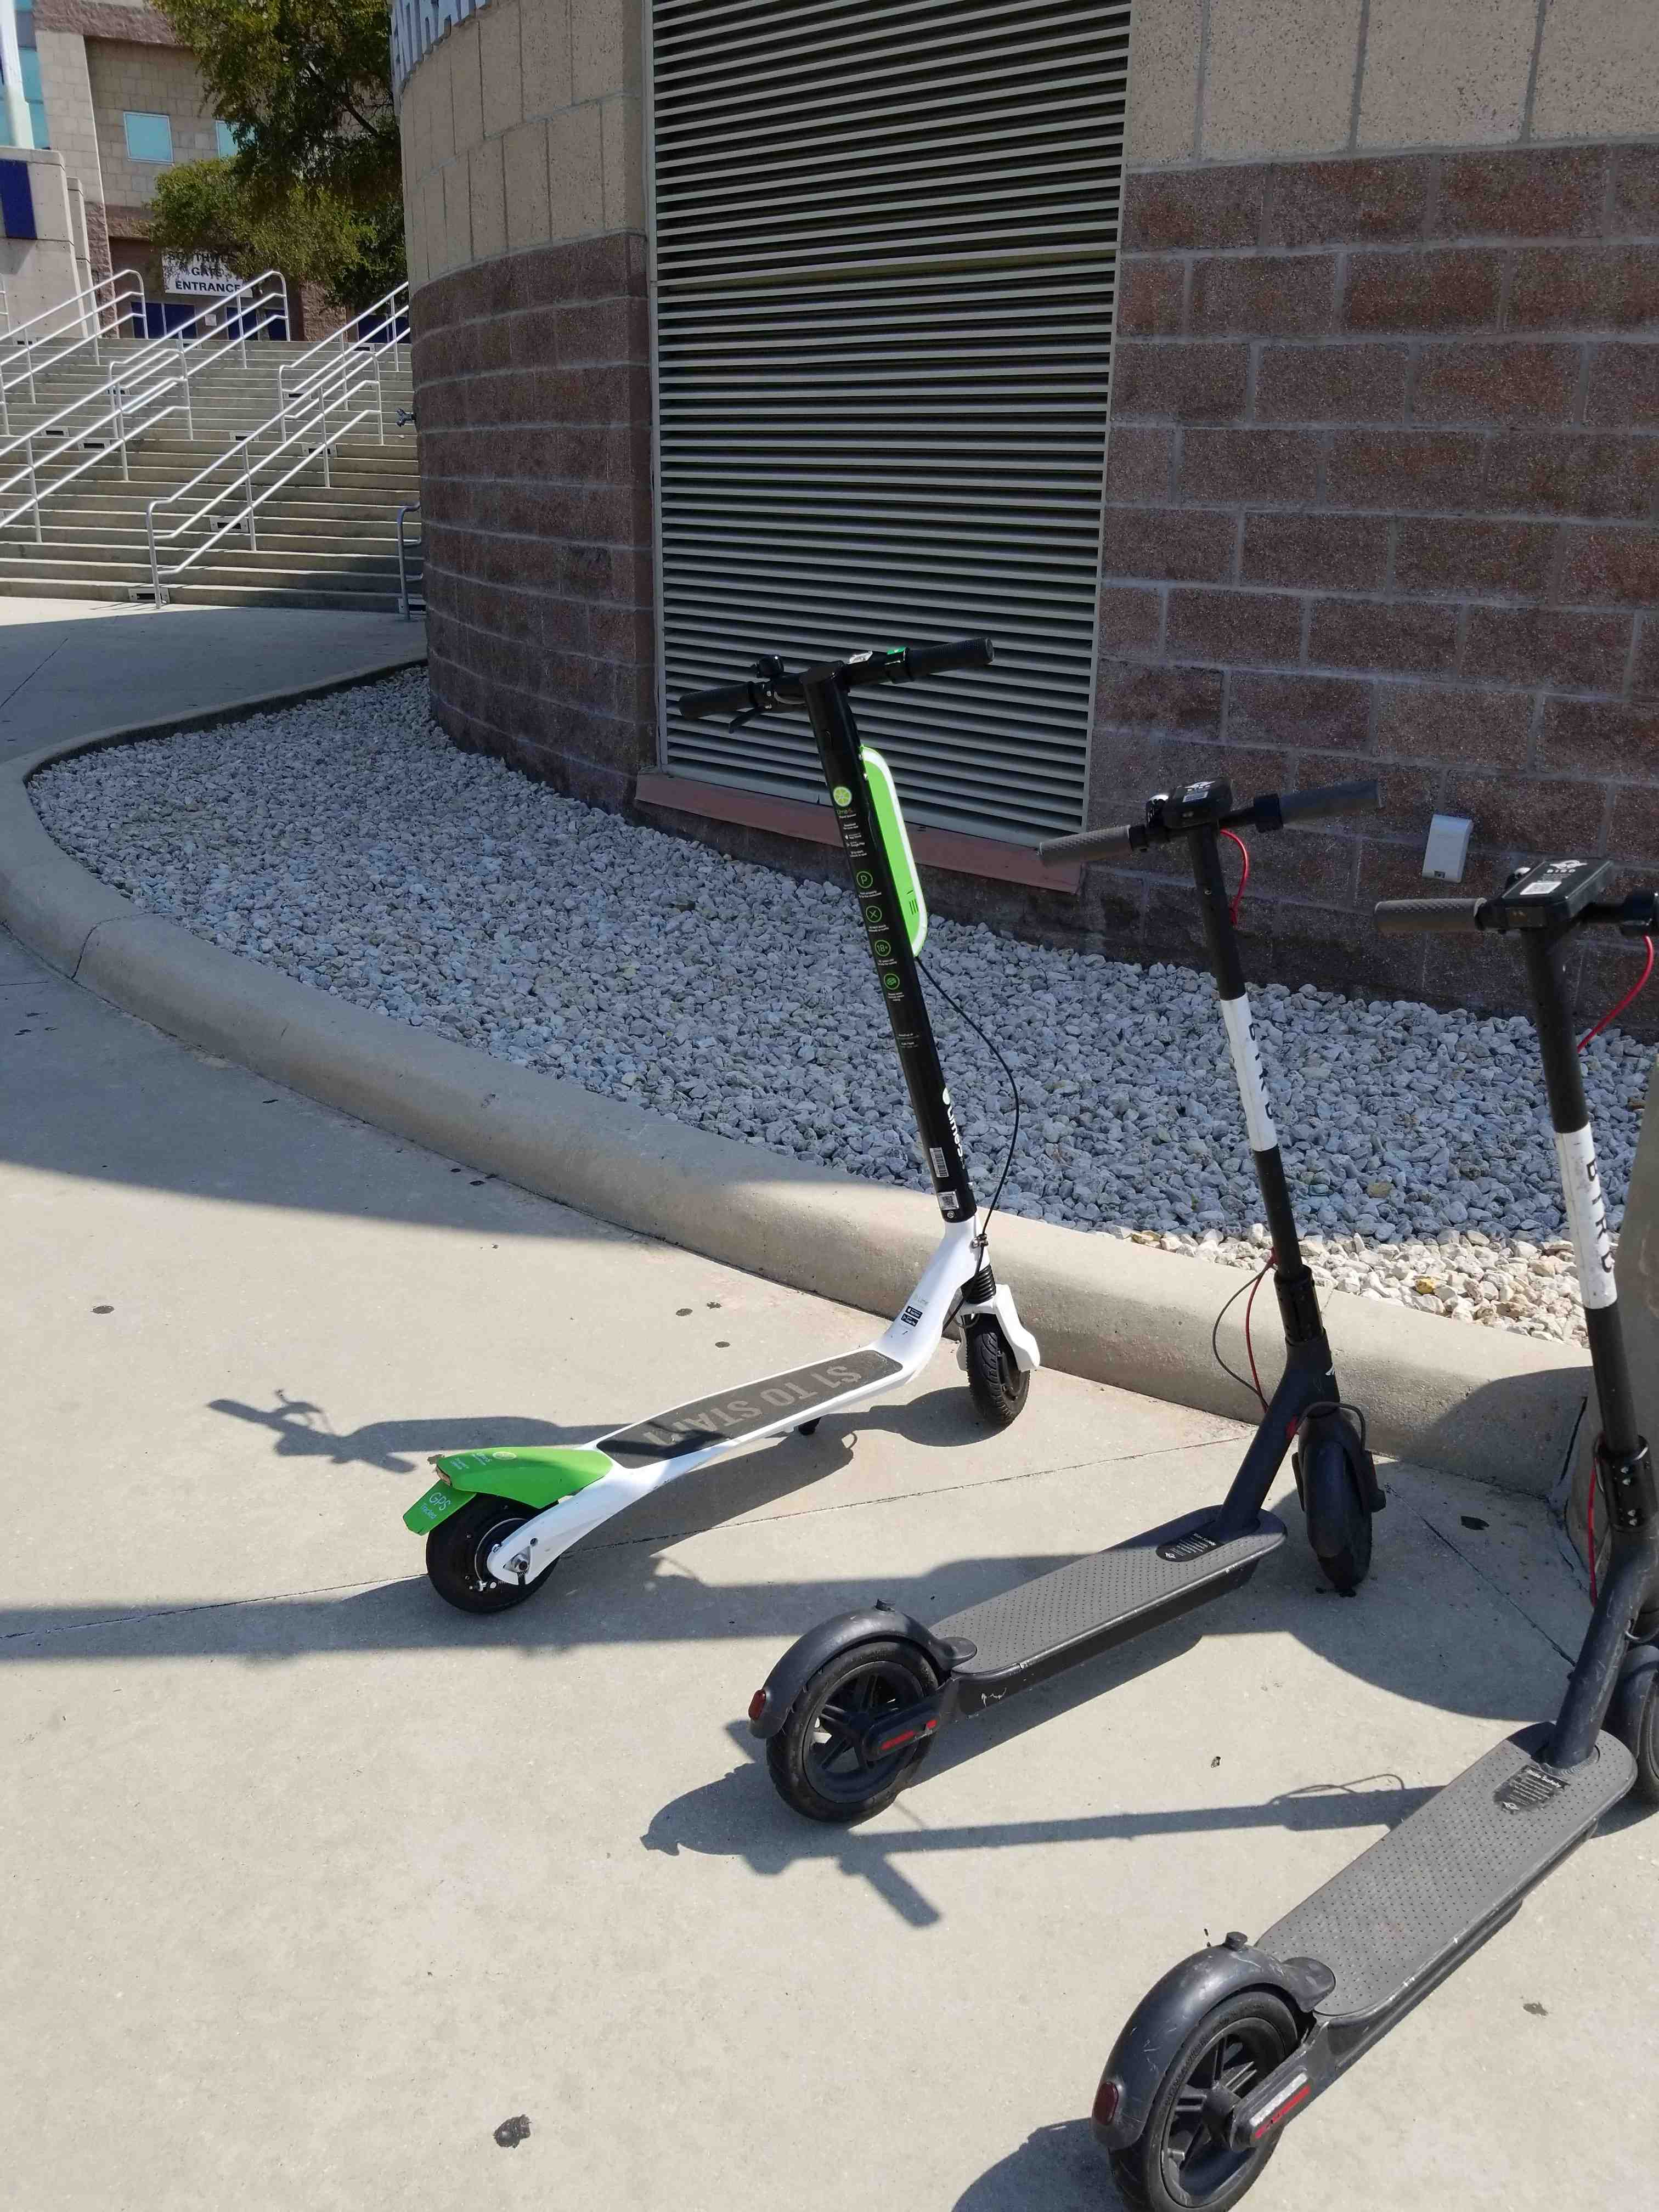scooter: (723, 678, 1415, 1844), (403, 590, 1093, 1620)
